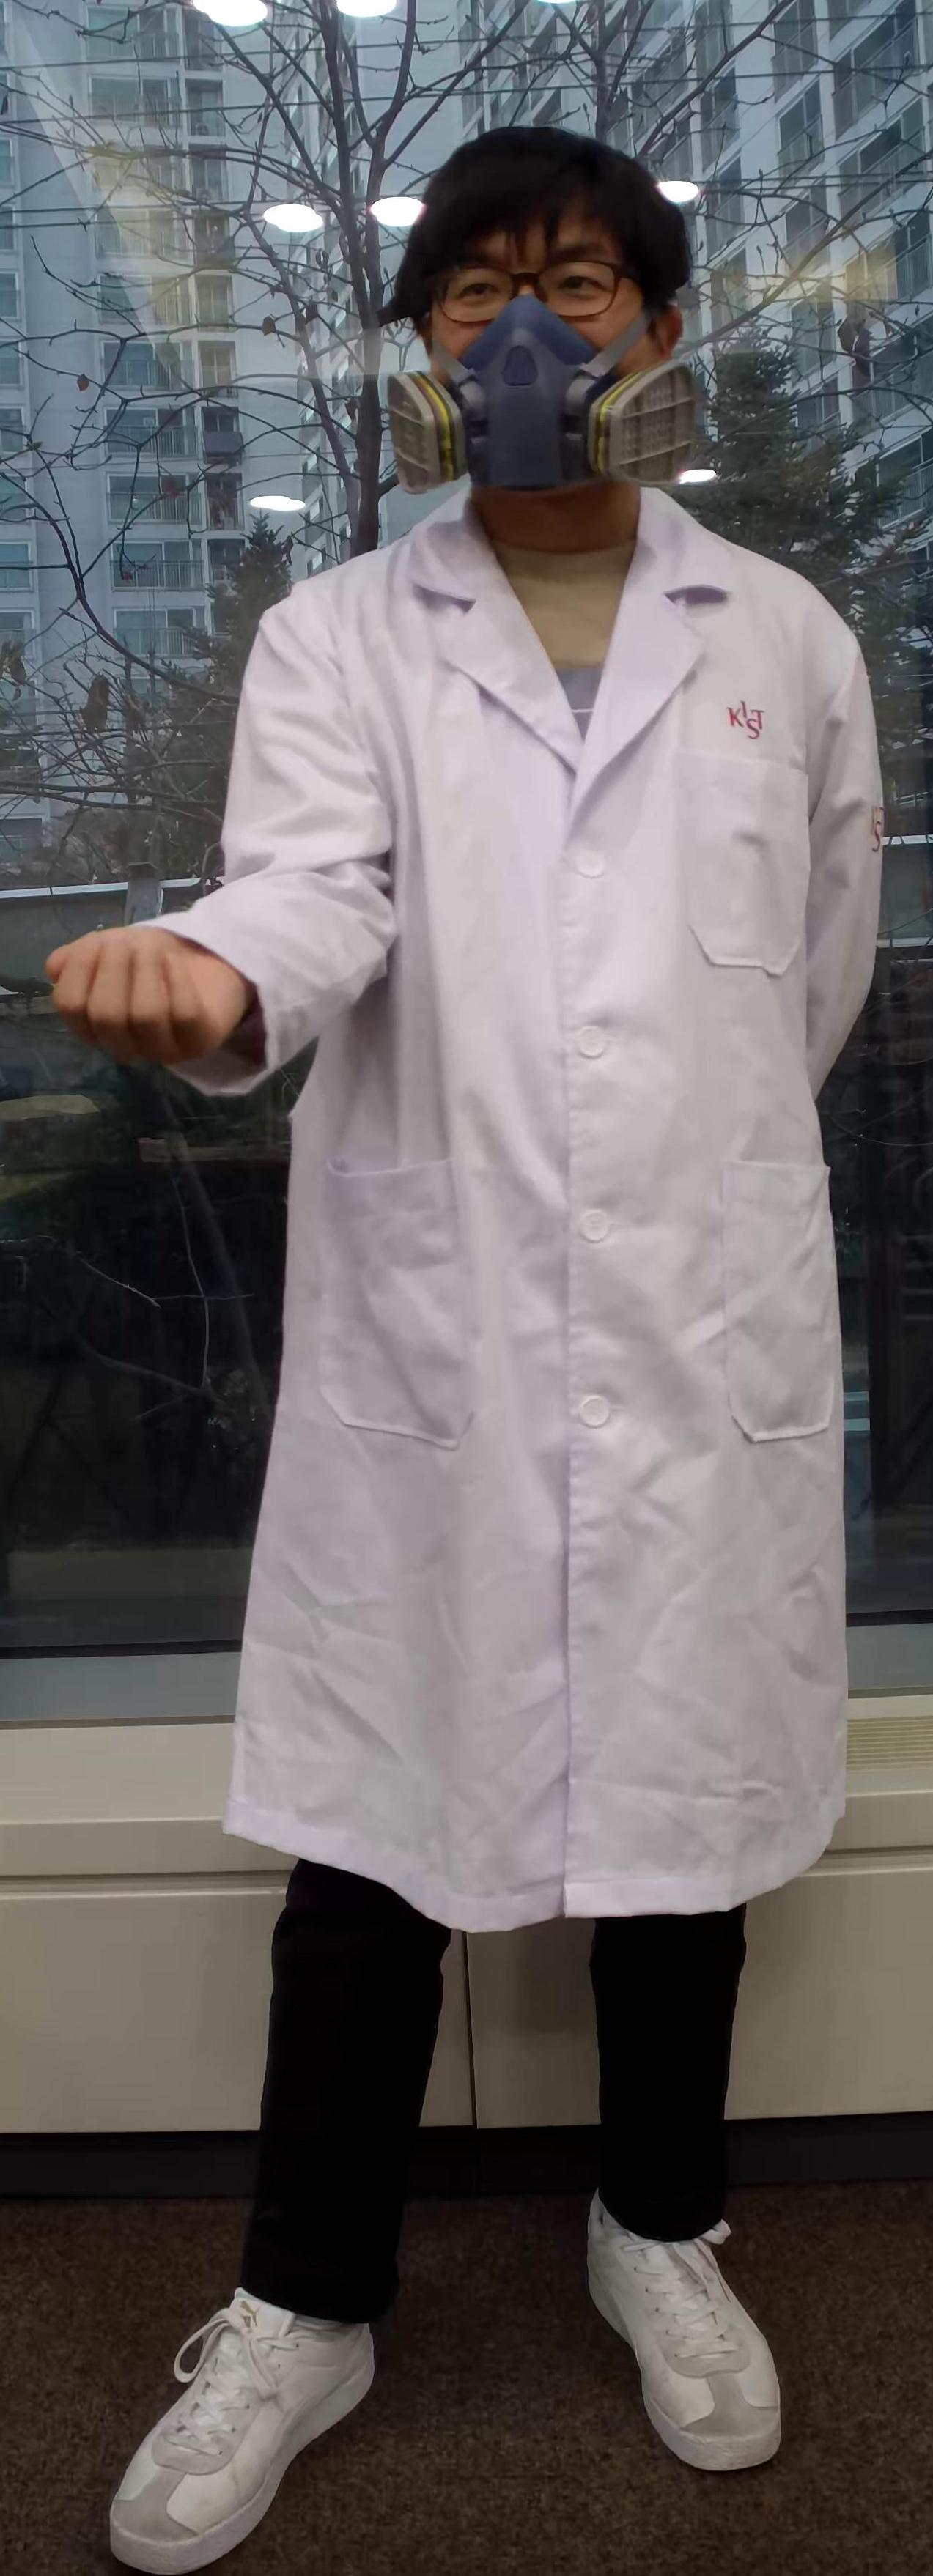lab_coat: (237, 550, 933, 1906)
